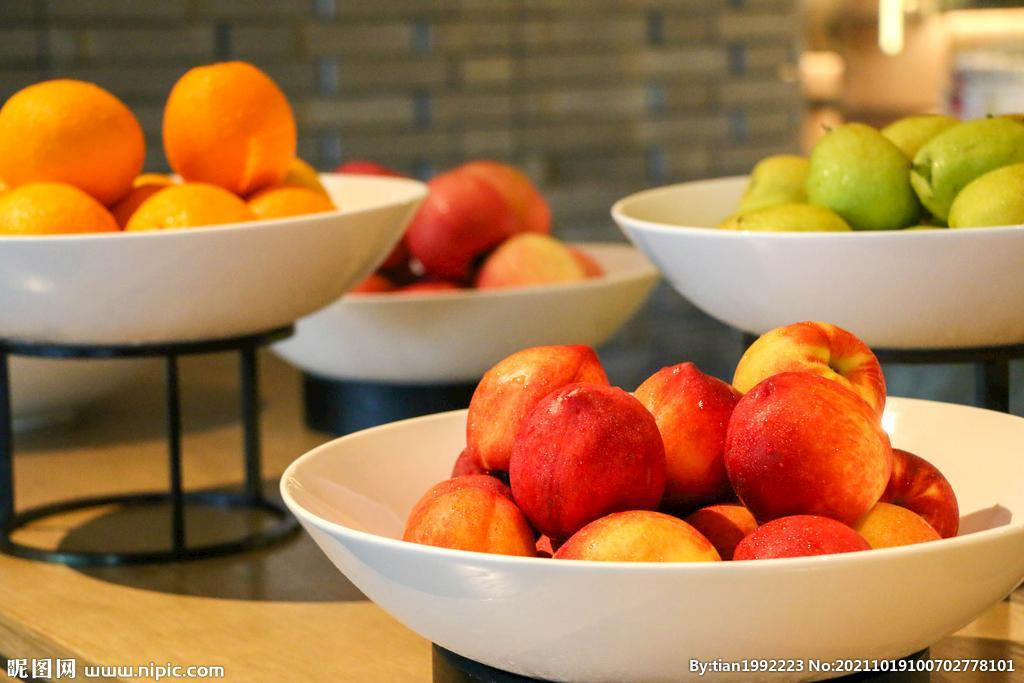apple: (722, 376, 887, 521), (508, 387, 667, 531), (725, 319, 887, 440), (633, 360, 744, 511), (402, 476, 535, 557), (865, 448, 958, 547)
